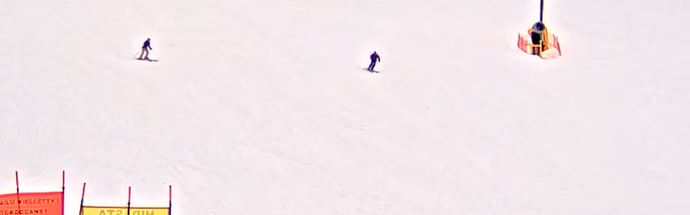skier: (128, 34, 161, 64), (361, 47, 384, 74)
